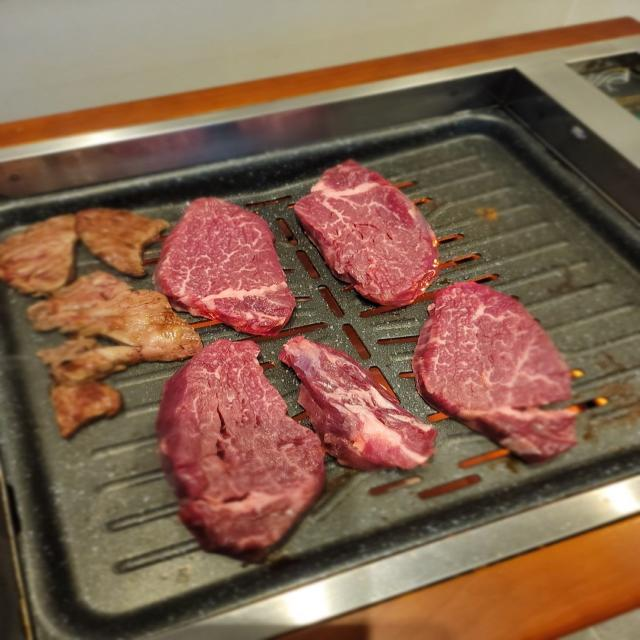pork: (76, 140, 608, 527)
